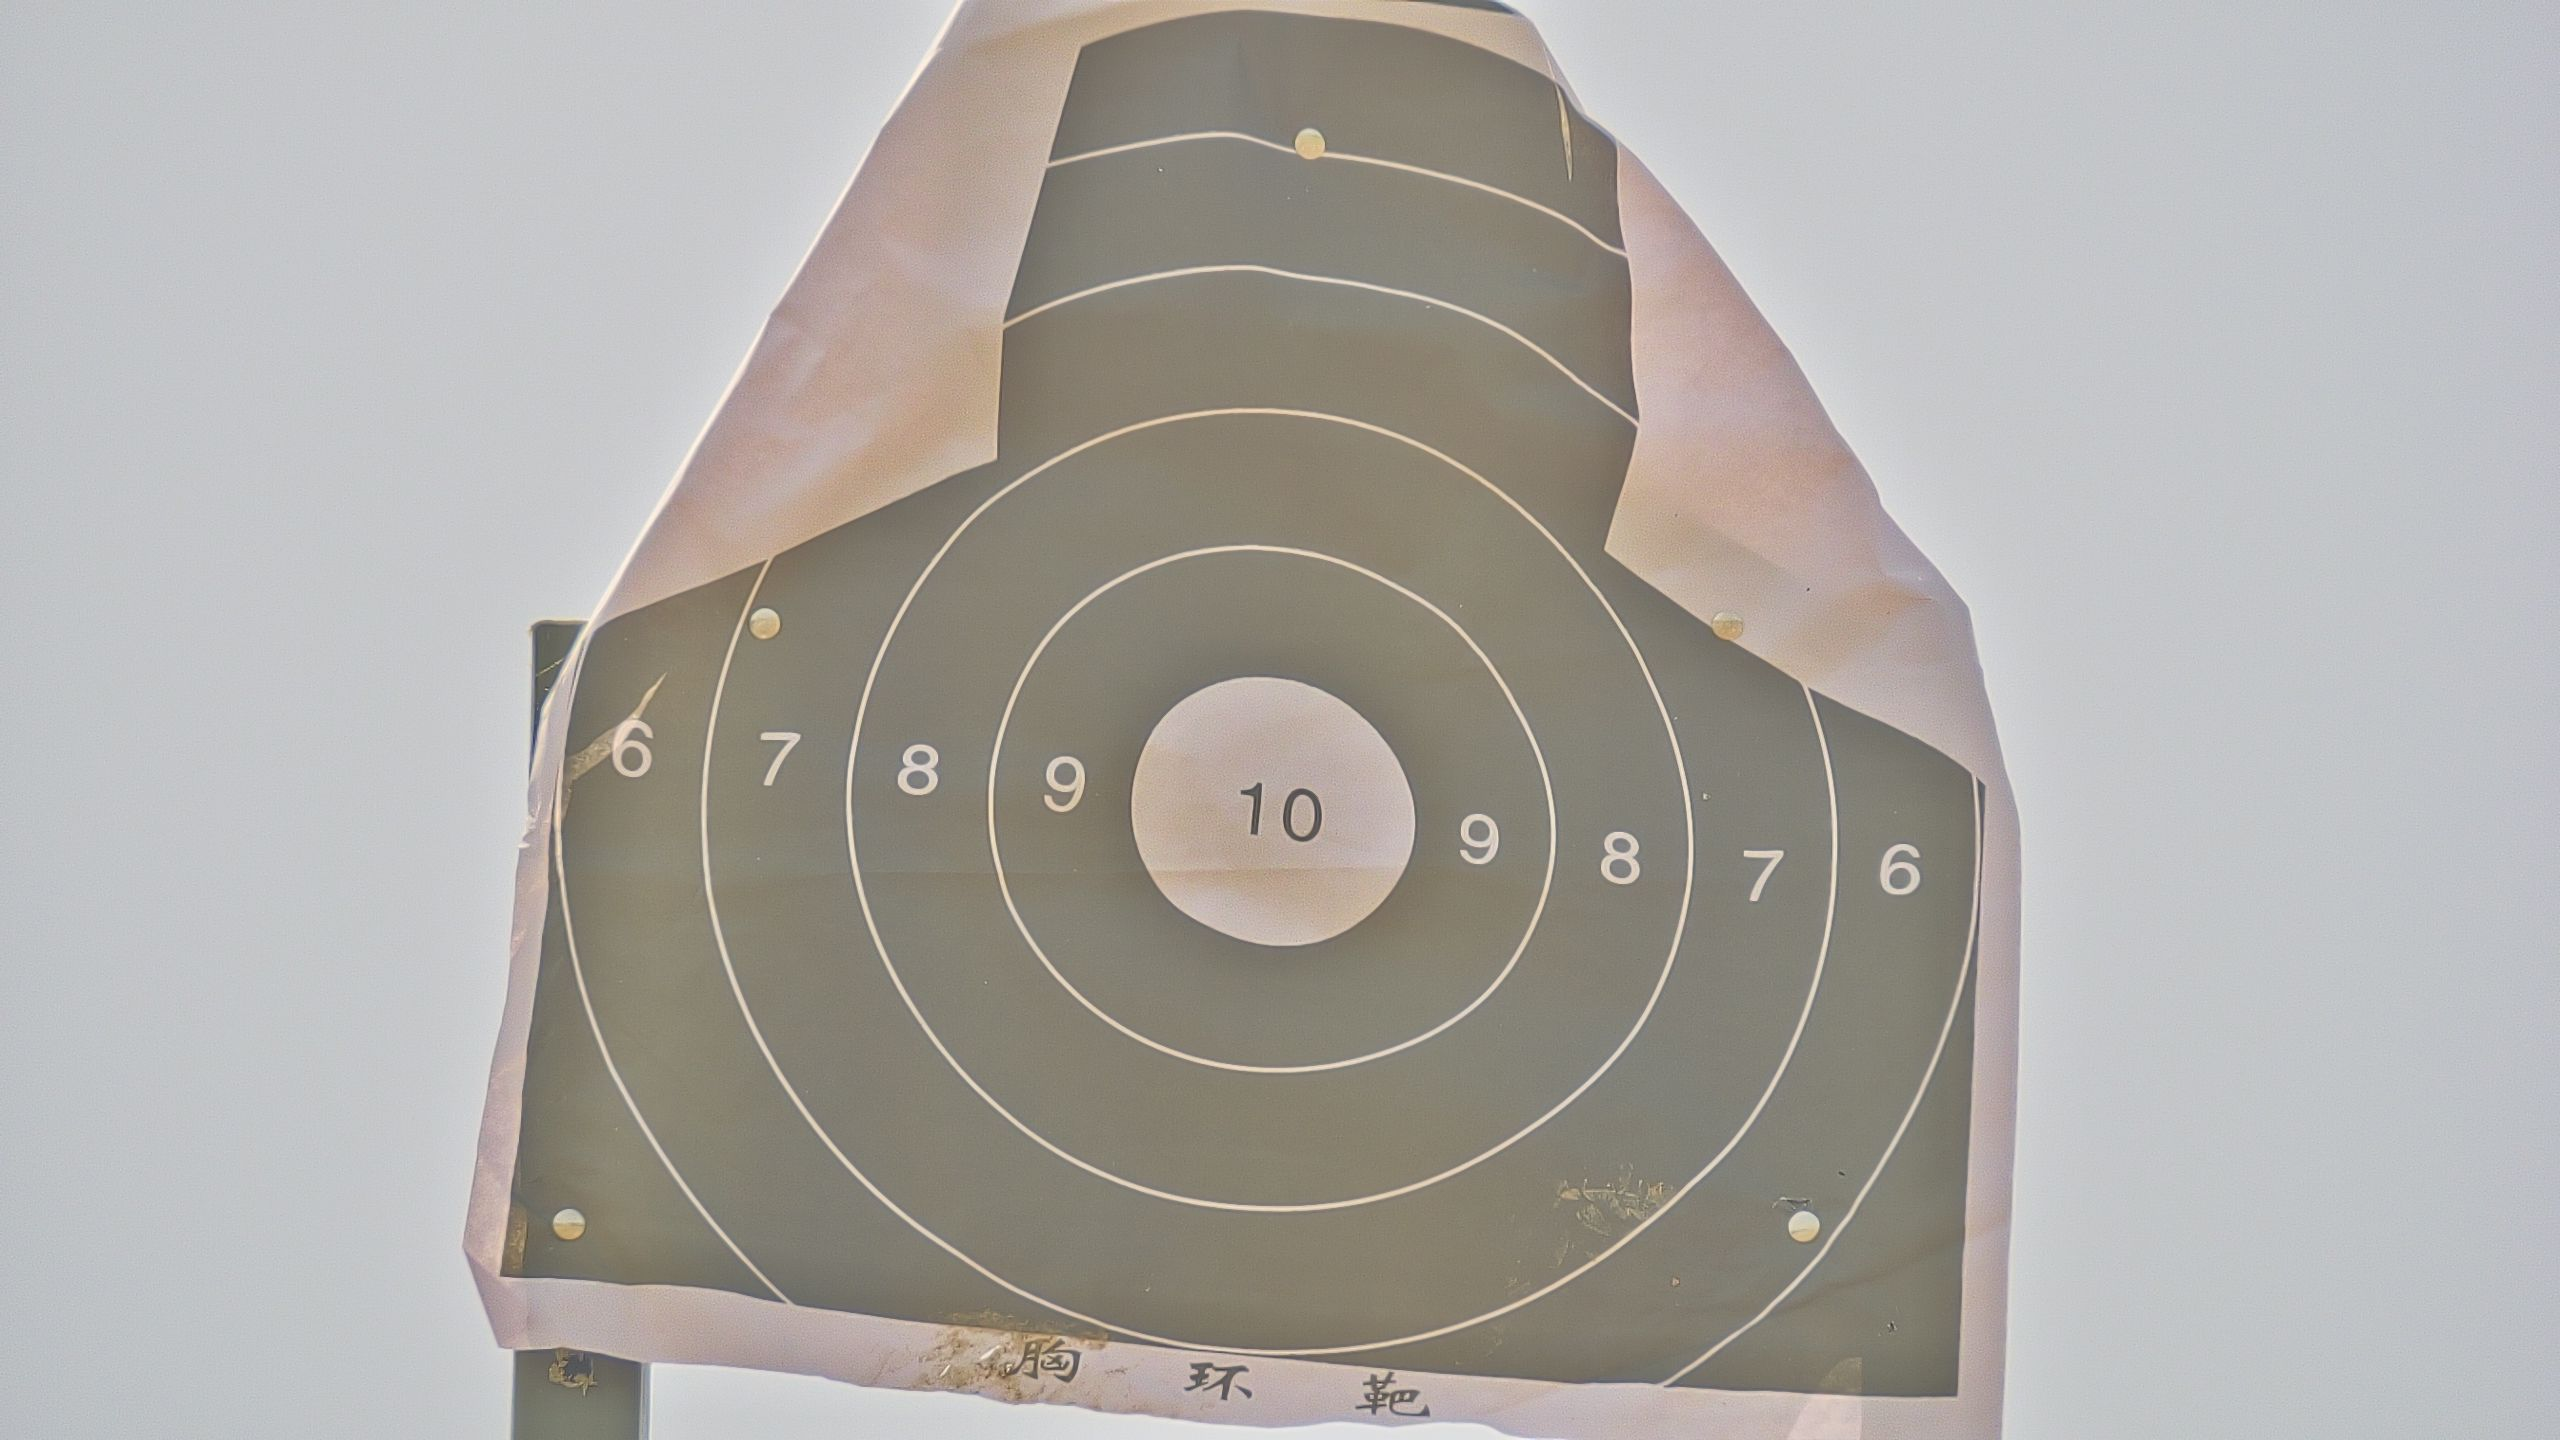kernel: (1268, 811, 1273, 818)
target: (496, 5, 1994, 1407)
ten: (1129, 679, 1417, 951)
